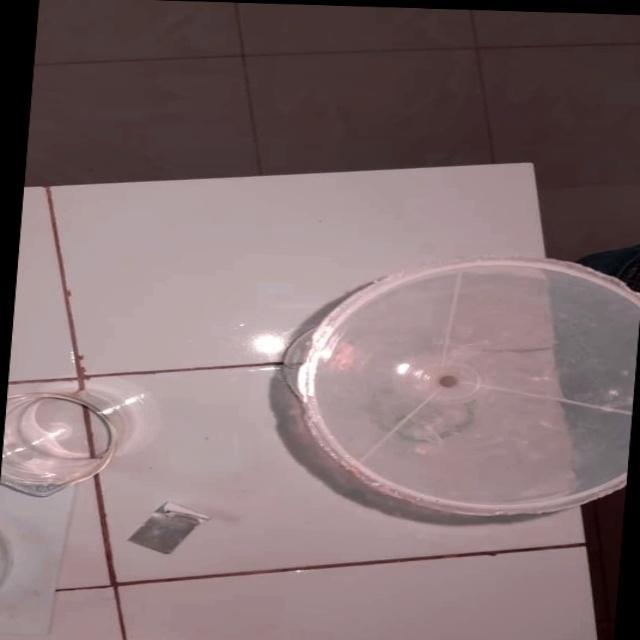Funnel: (283, 248, 640, 530)
